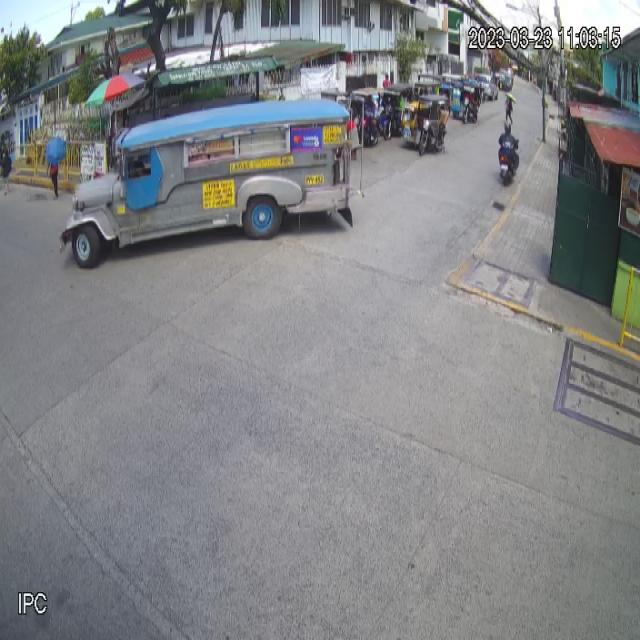Jeep: (56, 97, 352, 268)
